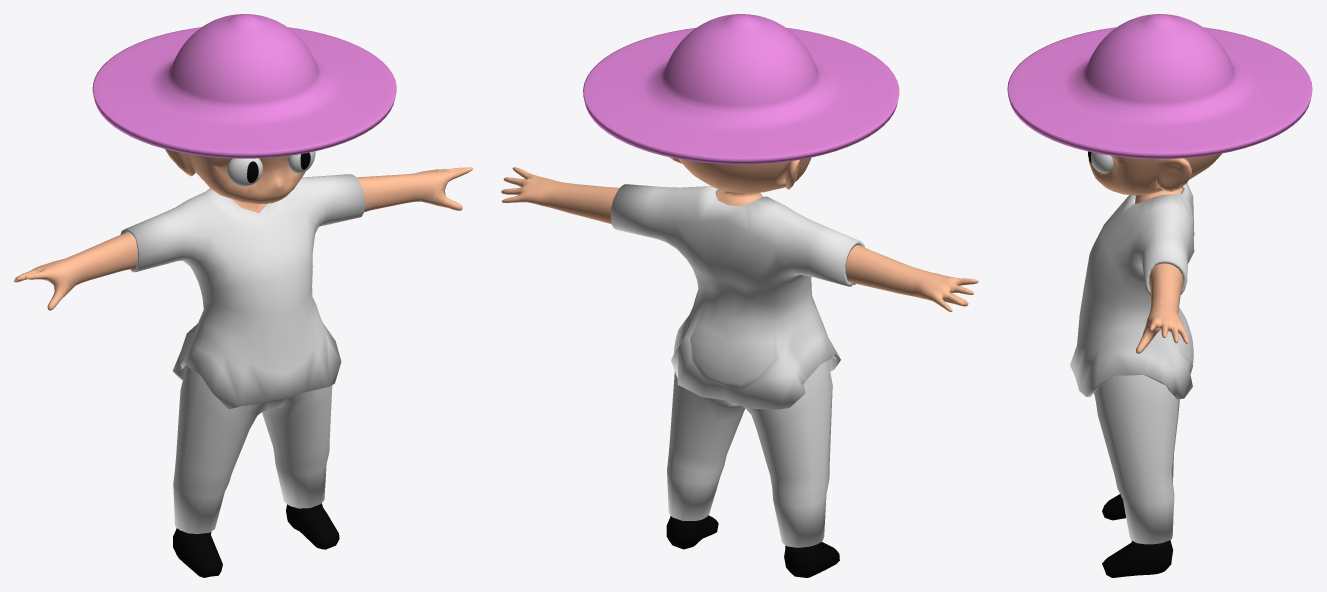
File: player for storm valley.fbx
The picture shows the model from 3 angles, left to right: view 1: azimuth 30°, elevation 25°; view 2: azimuth 150°, elevation 25°; view 3: azimuth 270°, elevation 25°; orthographic projection. The views are drawn at different scales.
Visible parts, largest first — view 1: hat, shirt, pants, body, shoes, eye 2; view 2: hat, shirt, pants, body, shoes; view 3: hat, shirt, pants, body, shoes.
Boxes of the visible parts, <box> form: hat: <box>92,14,396,158</box>; shirt: <box>120,174,364,409</box>; pants: <box>173,365,332,533</box>; body: <box>14,149,472,310</box>; shoes: <box>173,503,339,577</box>; eye 2: <box>227,158,262,186</box>; hat: <box>583,14,899,164</box>; shirt: <box>610,184,864,409</box>; pants: <box>667,360,832,547</box>; body: <box>501,157,978,311</box>; shoes: <box>666,515,839,577</box>; hat: <box>1007,14,1312,159</box>; shirt: <box>1070,182,1194,399</box>; pants: <box>1093,375,1179,544</box>; body: <box>1088,153,1221,353</box>; shoes: <box>1102,494,1173,577</box>.
Bounding box in the file's own units: 118 × 131 × 68.72.
